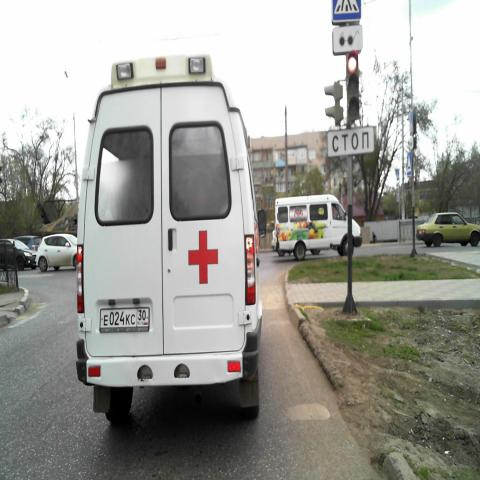8_15: (332, 26, 362, 52)
